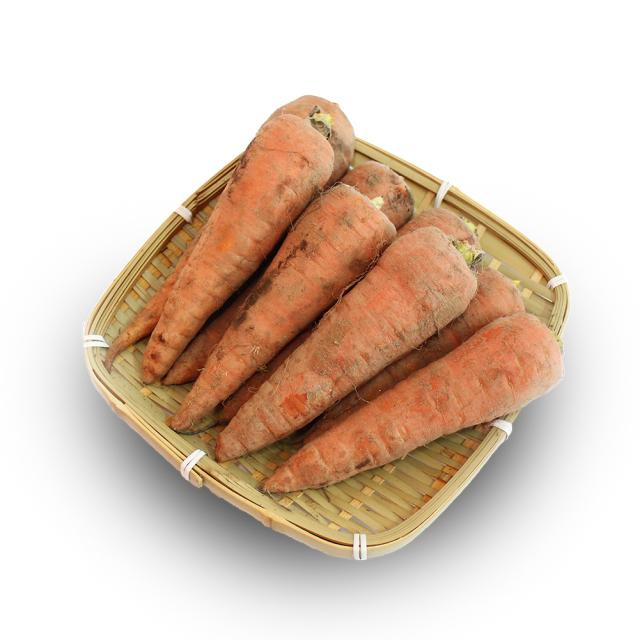carrot: (209, 225, 483, 469), (166, 182, 401, 442), (259, 311, 566, 504), (136, 112, 337, 395)
